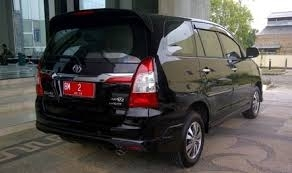plate: (62, 81, 95, 98)
